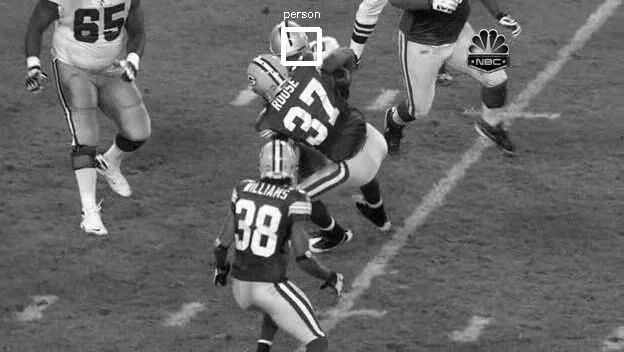person: (272, 31, 306, 74), (271, 31, 305, 74), (273, 31, 307, 74), (272, 30, 306, 73), (272, 32, 306, 75)
target_negative: (243, 90, 577, 185), (603, 70, 622, 313), (205, 239, 239, 348), (423, 209, 458, 290), (496, 190, 557, 234), (606, 314, 621, 320)
